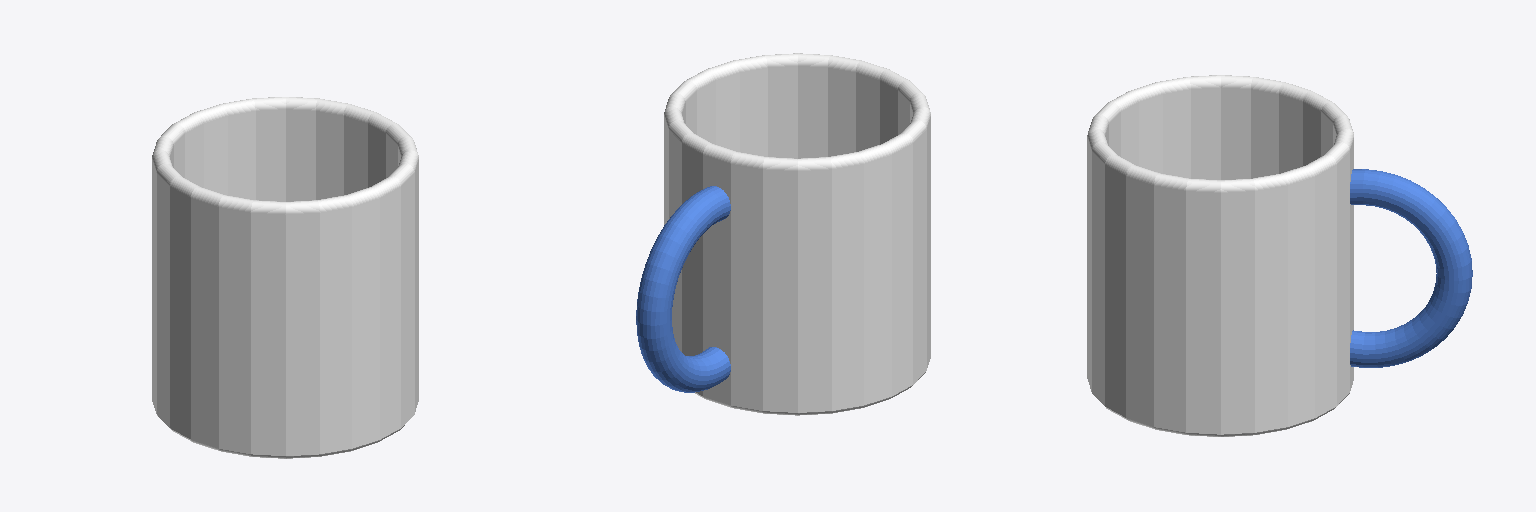
3 renders of one model, left to right at view 1: azimuth 30°, elevation 25°; view 2: azimuth 150°, elevation 25°; view 3: azimuth 270°, elevation 25°, orthographic.
Visible parts, largest first — view 1: model_normalized.002; view 2: model_normalized.002; view 3: model_normalized.002.
Part boxes in pixels (bbox=[...]): model_normalized.002: bbox=[152, 97, 418, 458]; model_normalized.002: bbox=[636, 53, 930, 415]; model_normalized.002: bbox=[1087, 75, 1472, 436].
Bounding box in the file's own units: 0.4885 × 0.5146 × 0.7046.